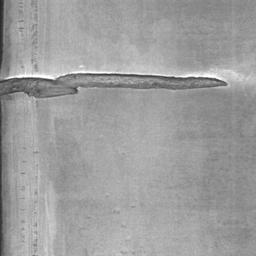Crease: (0, 73, 228, 98)
